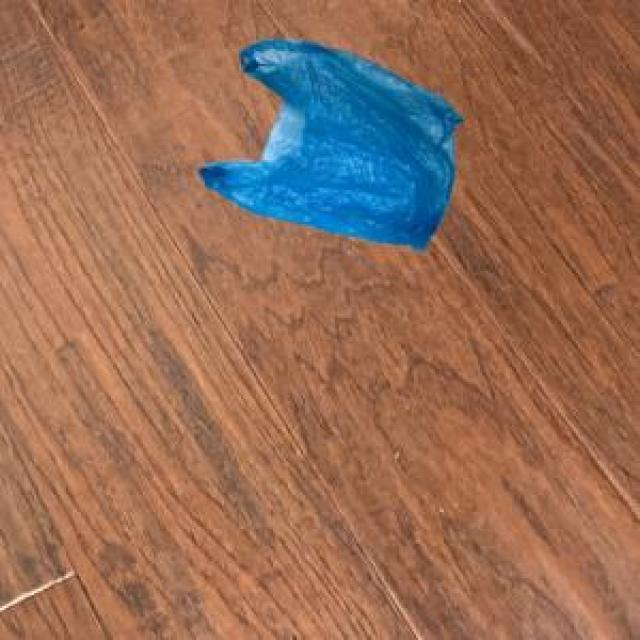waste: (200, 39, 461, 248)
